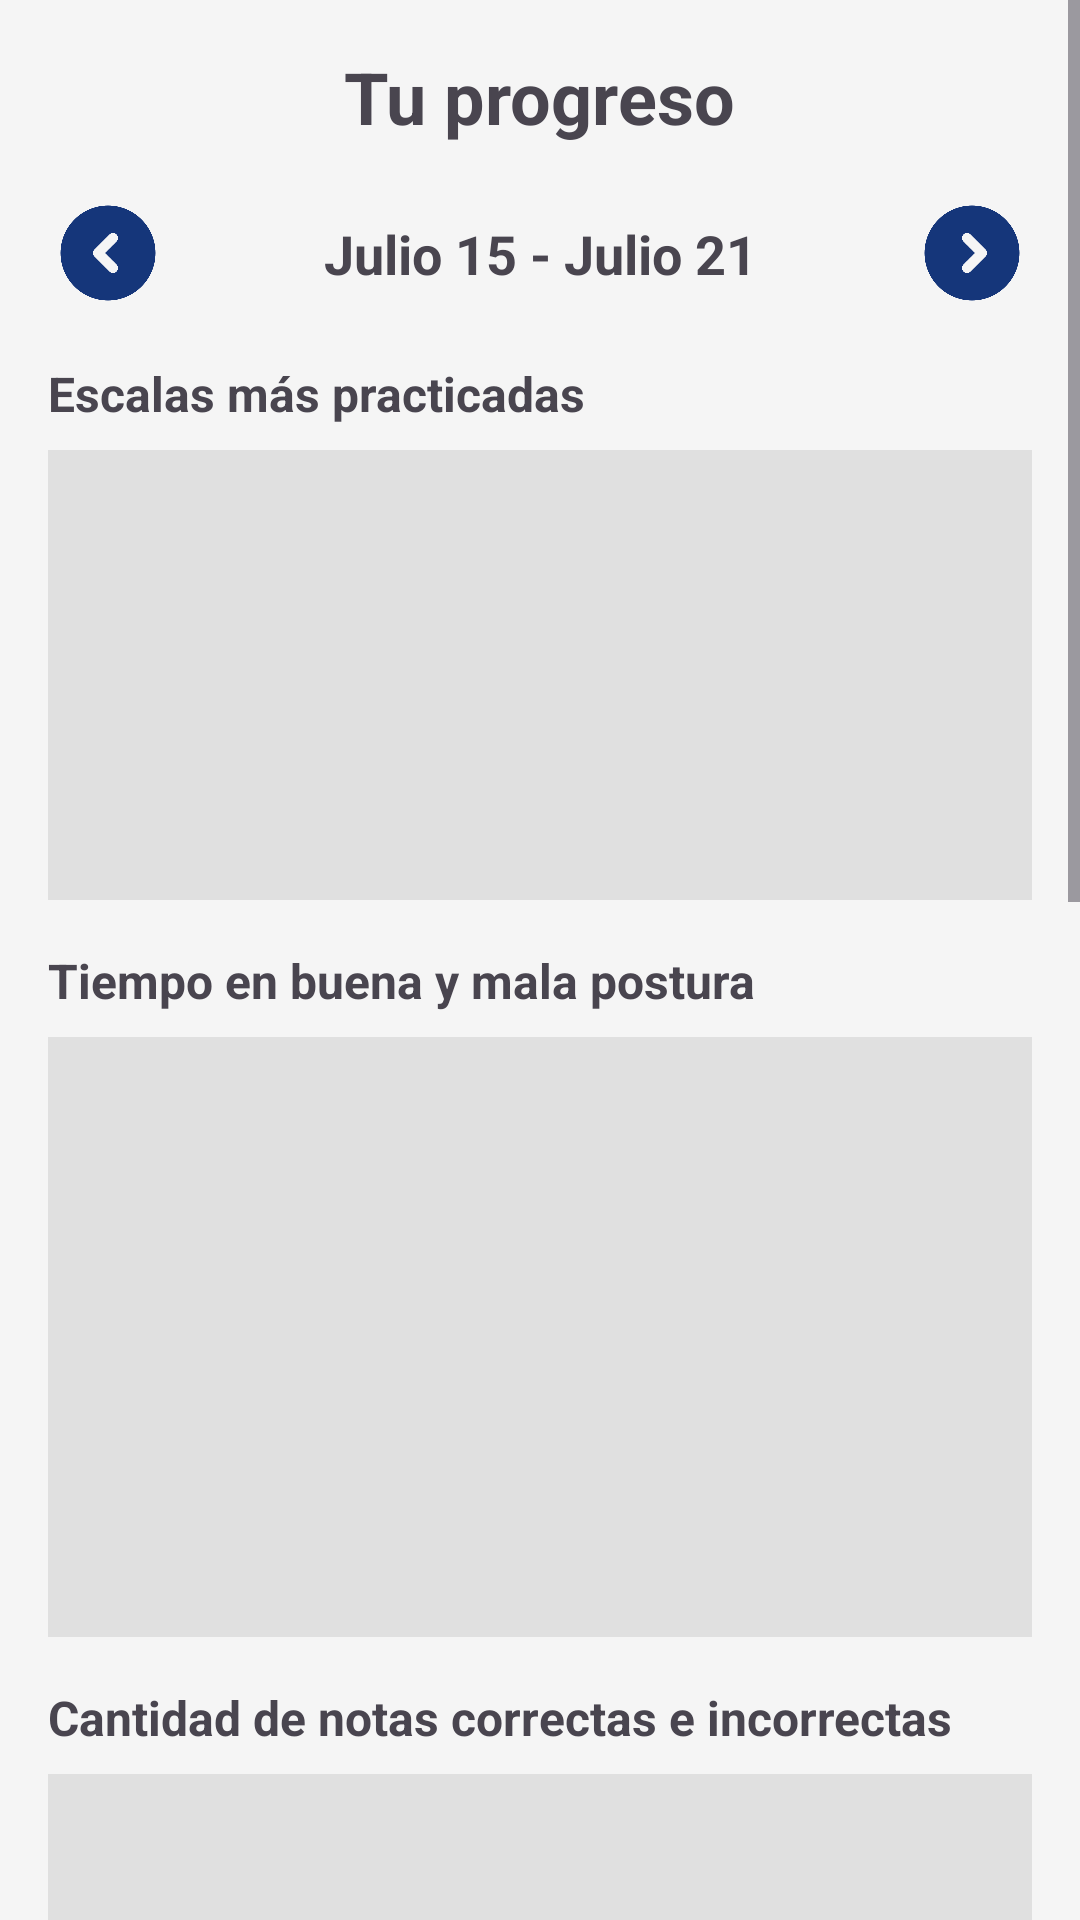

Locate icon controls on the screen. Image size 1080px×1920px, boxes as (x1, y1, x2, y2).
Semana anterior: (60, 205, 156, 301)
Semana siguiente: (924, 205, 1020, 301)
